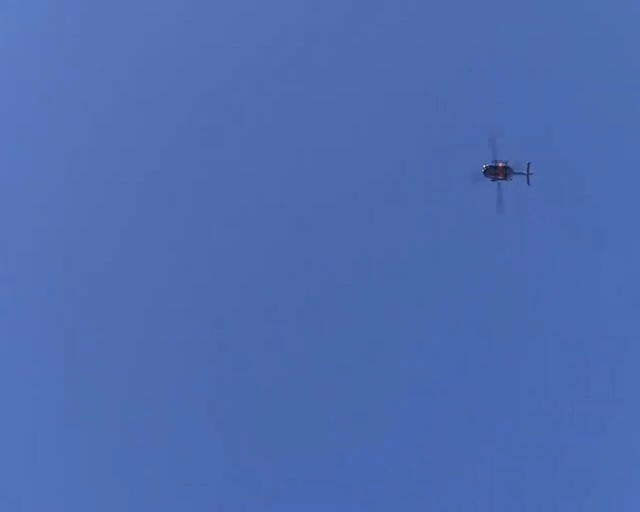HELICOPTER: (478, 134, 534, 184)
